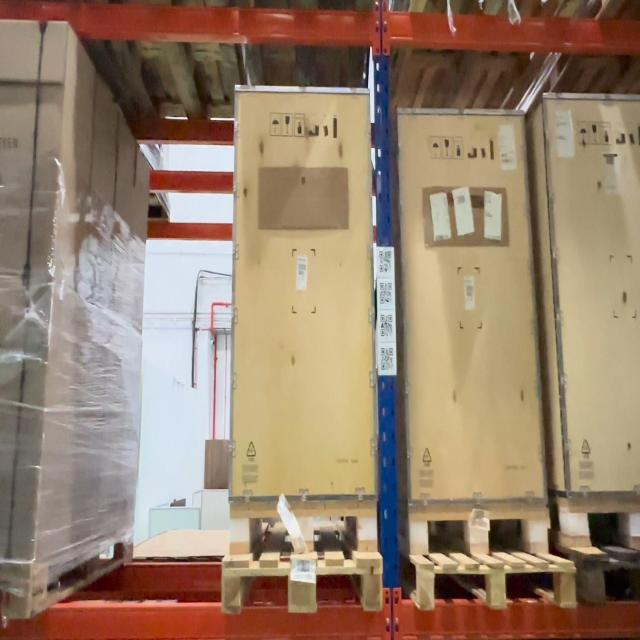box: (237, 92, 369, 496), (408, 114, 527, 501)
